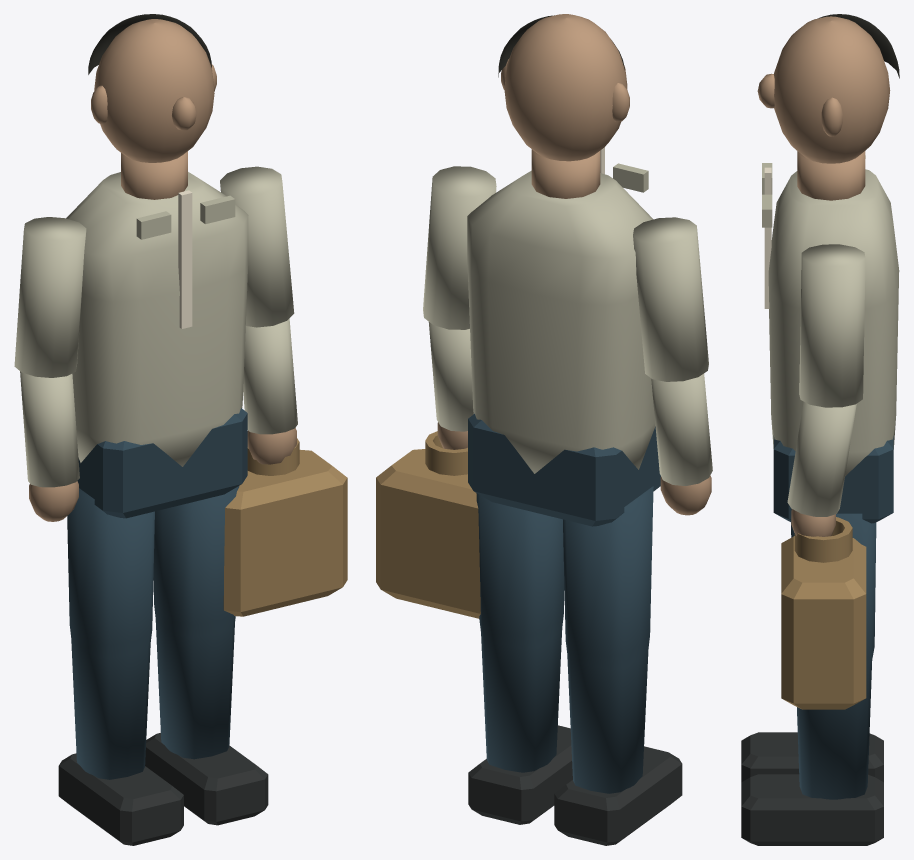
Rendered from resident.glb.
The picture shows the model from 3 angles, left to right: view 1: azimuth 30°, elevation 25°; view 2: azimuth 150°, elevation 25°; view 3: azimuth 270°, elevation 25°; orthographic projection. The views are drawn at different scales.
Parts seen in each view (by area): view 1: body, arm-right, leg-left, leg-right, arm-left; view 2: body, leg-left, arm-right, leg-right, arm-left; view 3: body, arm-right, leg-right, leg-left.
Part boxes in pixels (x1,y1,x2,y2): body: (66, 14, 248, 518); arm-right: (220, 166, 347, 616); leg-left: (58, 488, 183, 845); leg-right: (145, 486, 268, 825); arm-left: (14, 217, 86, 521); body: (467, 14, 660, 526); leg-left: (554, 486, 682, 845); arm-right: (376, 166, 496, 618); leg-right: (468, 493, 572, 824); arm-left: (633, 217, 712, 515); body: (757, 14, 899, 523); arm-right: (781, 244, 866, 709); leg-right: (741, 513, 883, 845); leg-left: (741, 732, 883, 782).
Bounding box in the file's own units: 0.7285 × 1.75 × 0.3163.
